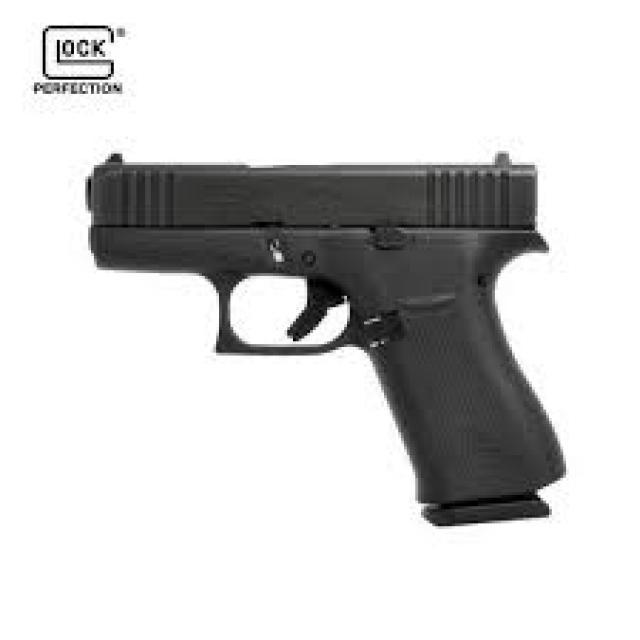semi automatic: (75, 140, 585, 539)
